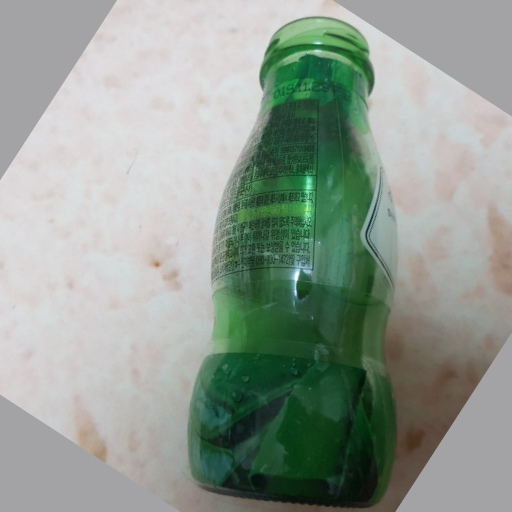Glass_4: (181, 15, 399, 503)
